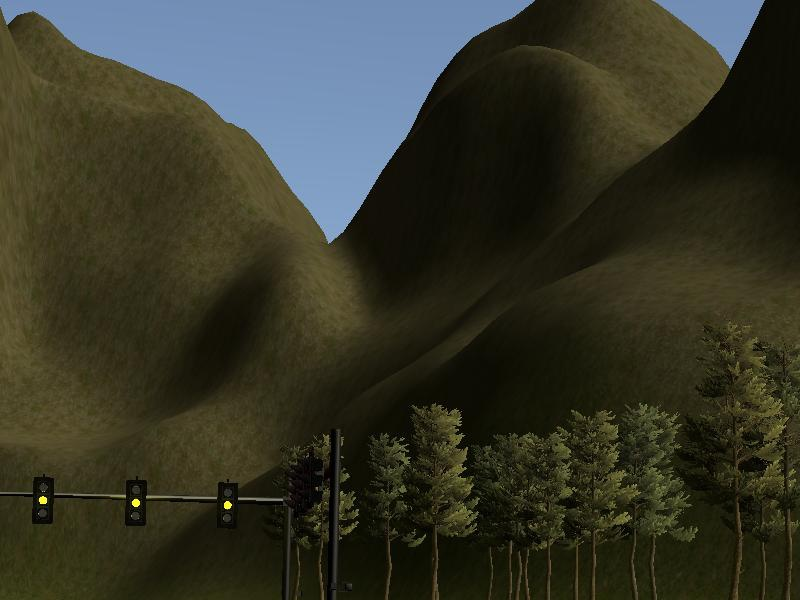Yellow: (124, 477, 149, 526), (215, 480, 240, 529), (30, 474, 55, 523)
